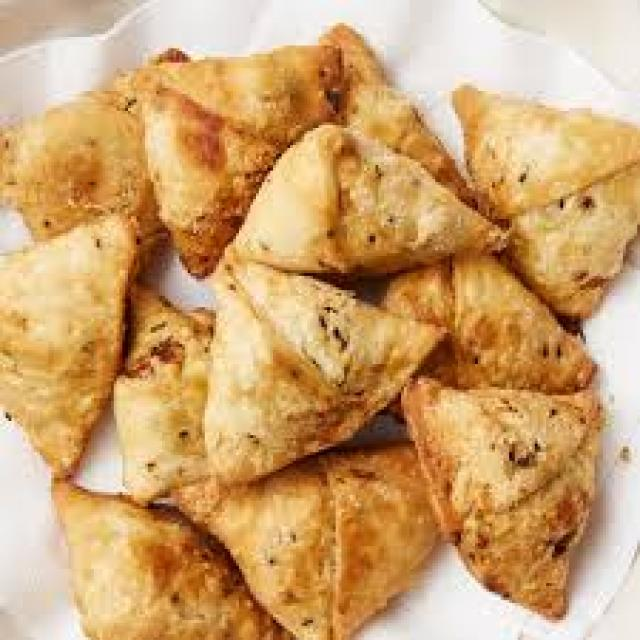SAMOSA: (202, 202, 438, 481), (111, 46, 341, 273), (182, 444, 438, 637), (404, 378, 600, 612), (233, 125, 503, 270), (0, 213, 134, 472), (57, 481, 279, 637), (387, 253, 592, 390), (319, 23, 469, 202), (0, 91, 159, 247), (455, 88, 637, 213), (118, 278, 212, 488), (506, 176, 637, 316), (71, 174, 94, 191)
